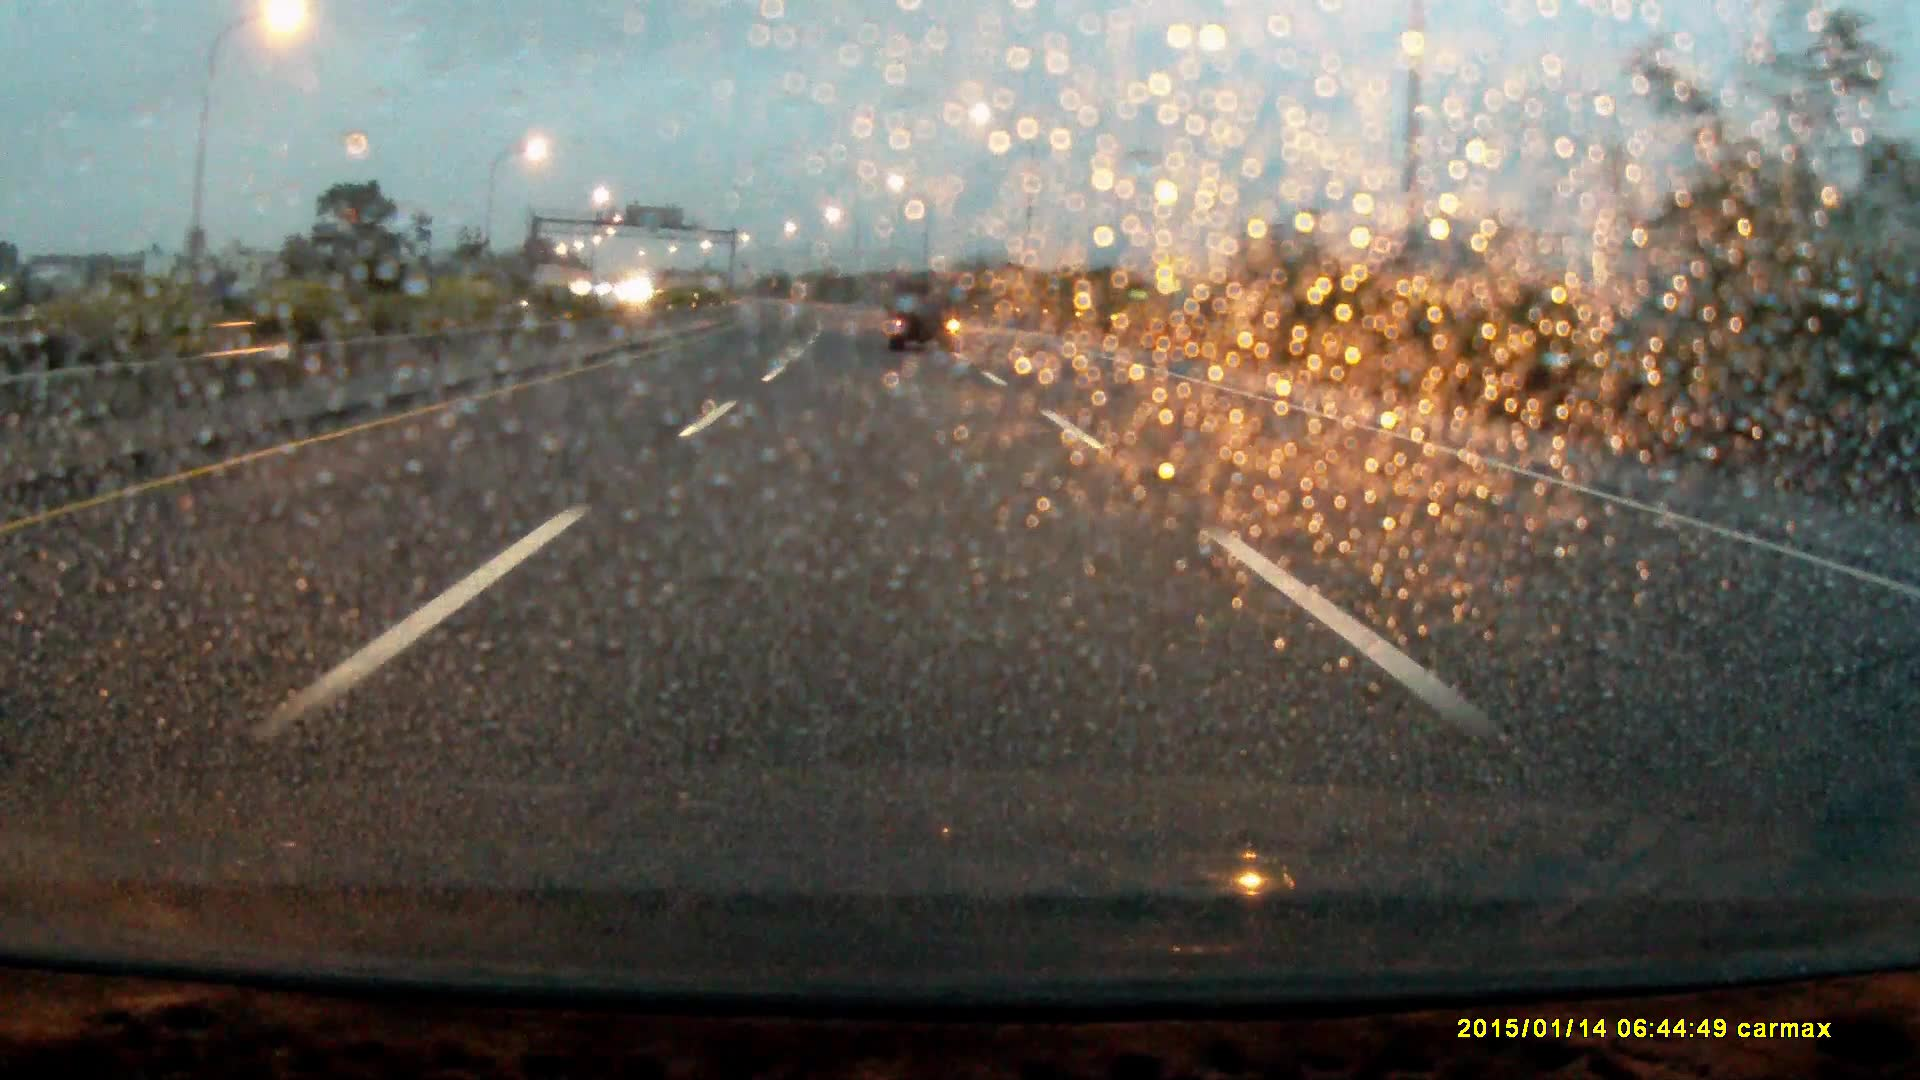vehicle: (889, 270, 961, 353)
